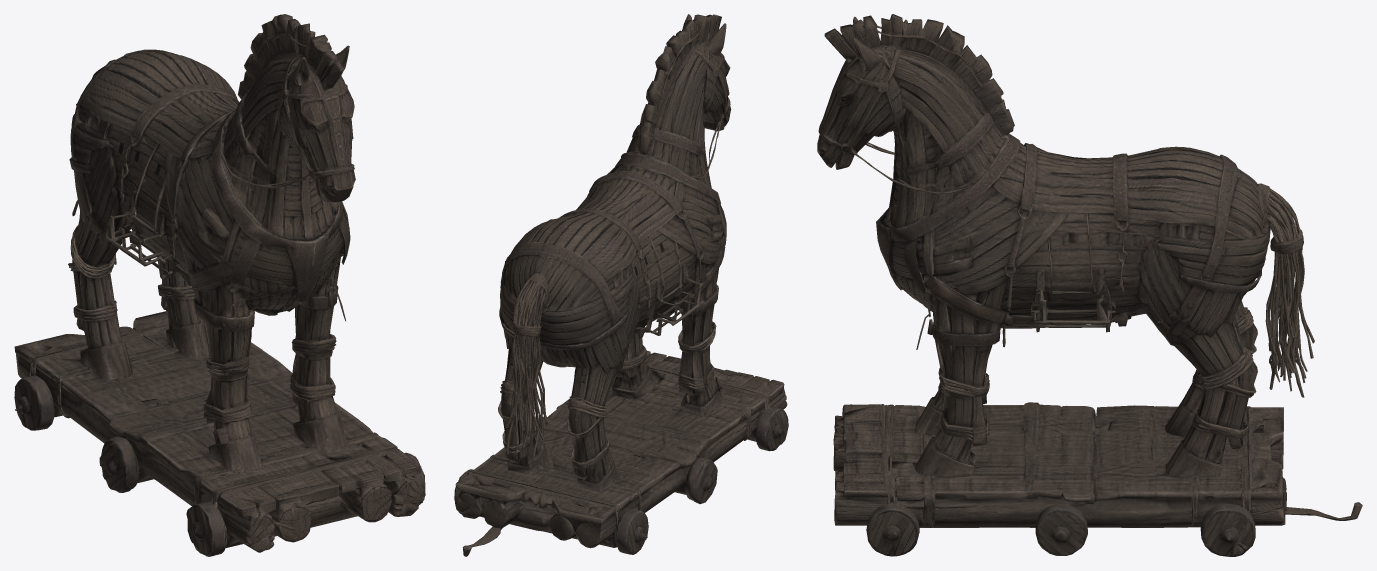
The model's file is cavallo_troia.glb.
The picture shows the model from 3 angles, left to right: view 1: azimuth 30°, elevation 25°; view 2: azimuth 150°, elevation 25°; view 3: azimuth 270°, elevation 25°; orthographic projection. The views are drawn at different scales.
Parts seen in each view (by area): view 1: Mesh_0; view 2: Mesh_0; view 3: Mesh_0.
Boxes of the visible parts, left/top/right/bottom form: Mesh_0: left=14, top=14, right=425, bottom=556; Mesh_0: left=454, top=14, right=788, bottom=556; Mesh_0: left=817, top=14, right=1362, bottom=556.
Bounding box in the file's own units: 0.817 × 1.66 × 1.67.
Materials: 1 (1 with a texture image).
